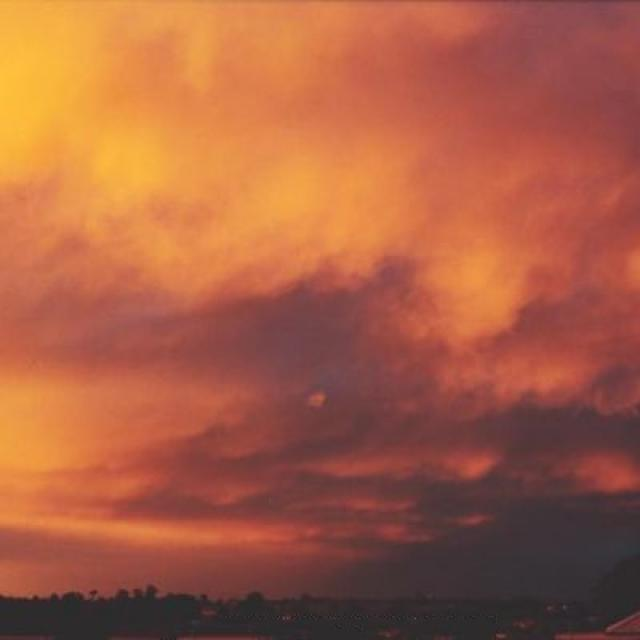As: (1, 85, 640, 469)
